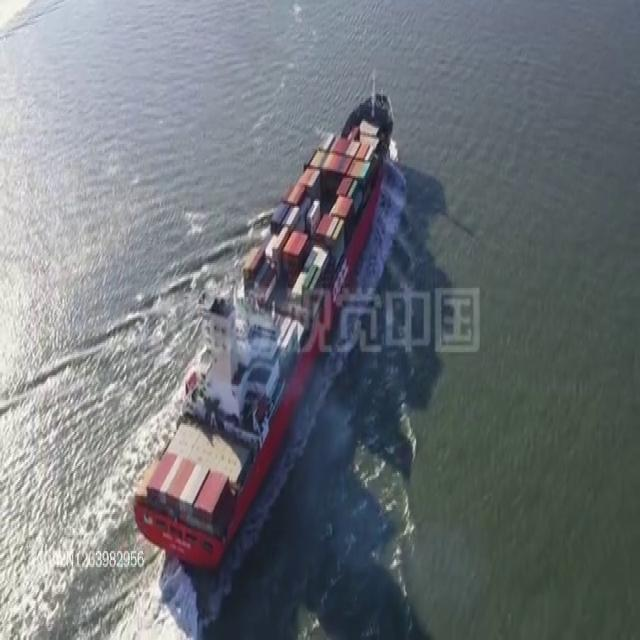cargoship: (128, 75, 399, 558)
